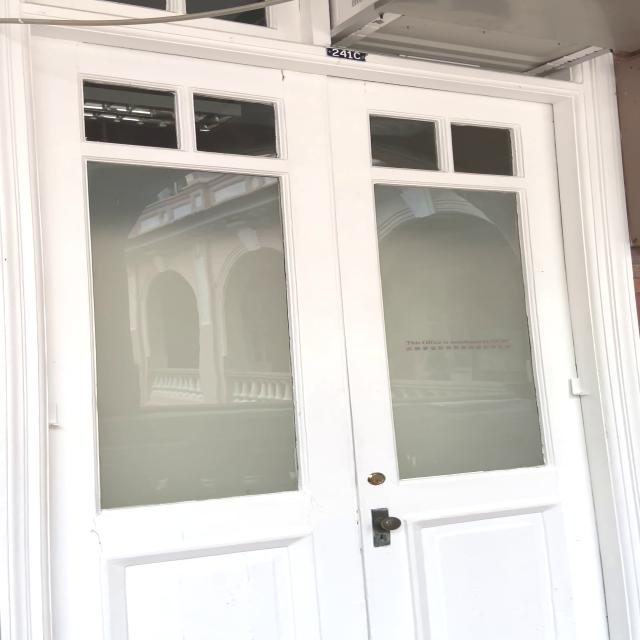room241c: (322, 42, 369, 63)
